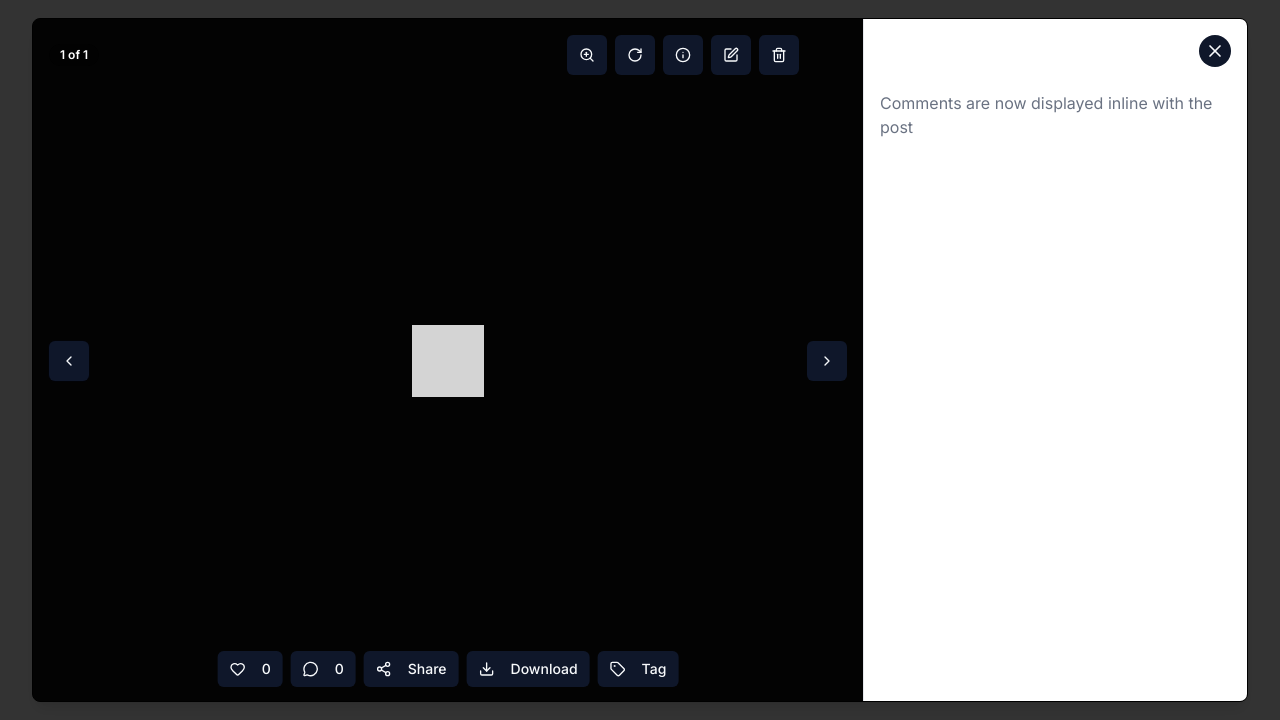
Test case: EnterprisePhotoViewer delete photo › calls onPhotoDeleted with photo id after successful delete when user confirms
The width and height of the screenshot is (1280, 720).
Later steps or results of the test are not shown.
What coordinates should you click on to do the following:
click the button named "delete photo"
I would click on:
 (779, 55)
Its box is [759, 35, 799, 75].
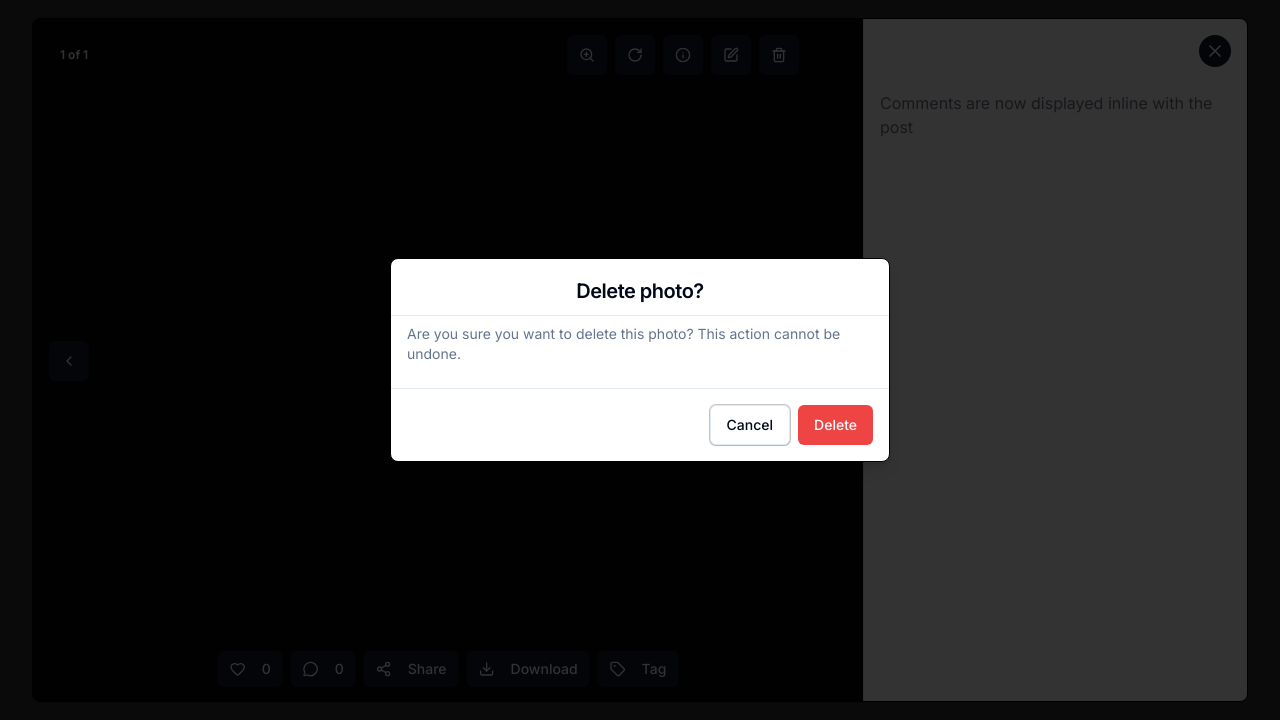
expect the heading "Delete photo?" is shown: met, box [576, 279, 704, 303]
